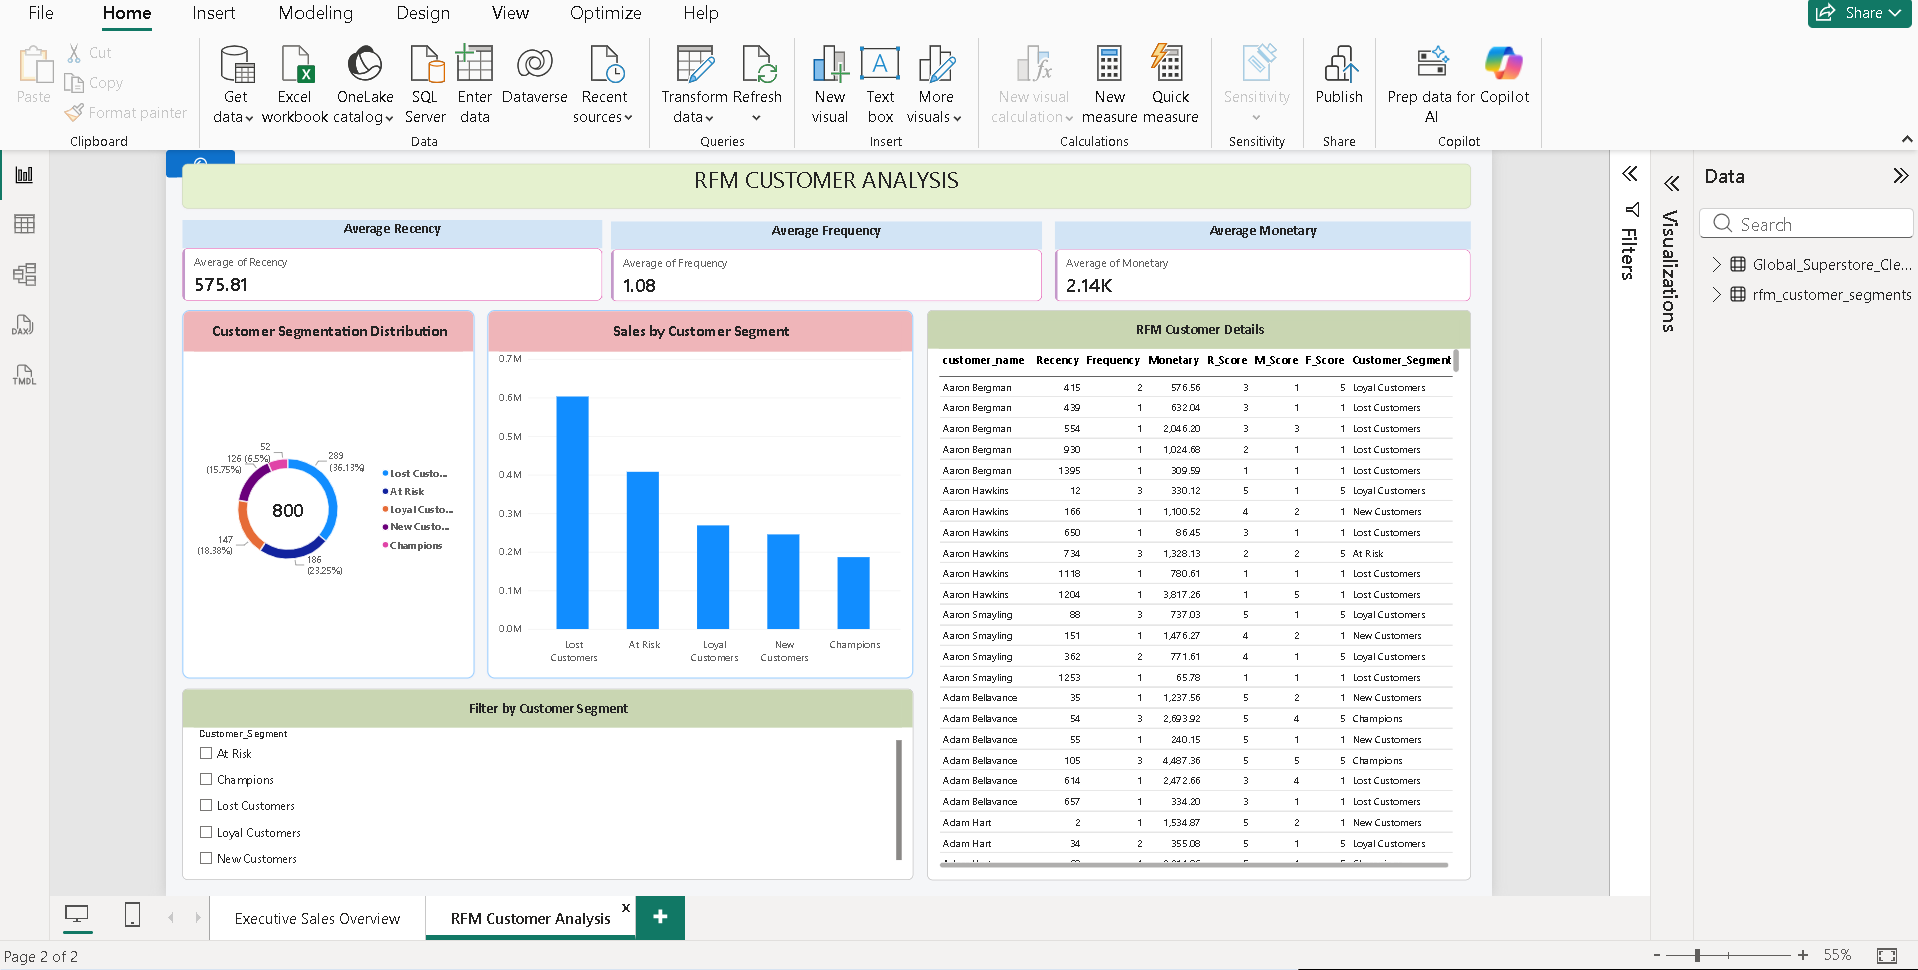

The dashboard page shown, as its layout file describes it:
{"tool":"powerbi","page":{"name":"RFM Customer Analysis","canvas":[1920,1080],"ordinal":1},"visuals":[{"type":"cardVisual","title":"Average Recency","fields":{"Data":["Avg(rfm_customer_segments.Recency)"]},"box":[23.5,101.3,608,117.6],"z":0},{"type":"cardVisual","title":"Average Frequency","fields":{"Data":["Avg(rfm_customer_segments.Frequency)"]},"box":[644.2,103.2,624.3,115.8],"z":1000},{"type":"cardVisual","title":"Average Monetary","fields":{"Data":["Avg(rfm_customer_segments.Monetary)"]},"box":[1286.7,103.2,602.6,115.8],"z":2000},{"type":"donutChart","title":"Customer Segmentation Distribution","fields":{"Category":["rfm_customer_segments.Customer_Segment"],"Y":["CountNonNull(rfm_customer_segments.customer_id)"]},"box":[23.5,231.6,423.5,533.8],"z":3000},{"type":"clusteredColumnChart","title":"Sales by Customer Segment","fields":{"Category":["rfm_customer_segments.Customer_Segment"],"Y":["Sum(rfm_customer_segments.Monetary)"]},"box":[465.1,231.6,617.1,533.8],"z":4000},{"type":"tableEx","title":"RFM Customer Details","fields":{"Values":["rfm_customer_segments.customer_name","rfm_customer_segments.Recency","rfm_customer_segments.Frequency","rfm_customer_segments.Monetary","rfm_customer_segments.R_Score","rfm_customer_segments.M_Score","rfm_customer_segments.F_Score","rfm_customer_segments.Customer_Segment"]},"box":[1102.1,231.6,787.2,825.2],"z":5000},{"type":"actionButton","box":[0,0,100,40],"z":6000},{"type":"slicer","title":"Filter by Customer Segment","fields":{"Values":["rfm_customer_segments.Customer_Segment"]},"box":[23.5,780,1058.7,276.9],"z":7000},{"type":"textbox","box":[23.5,19.9,1865.8,65.1],"z":8000}]}

Visuals, with their boxes on the page's 1920x1080 design canvas (x1, y1, x2, y2). These are canvas units, not pixel positions in the 1918x970 screenshot, which may show the page scaled, cropped or inside an application window:
"Average Recency" cardVisual: locate(24, 101, 632, 219)
"Average Frequency" cardVisual: locate(644, 103, 1268, 219)
"Average Monetary" cardVisual: locate(1287, 103, 1889, 219)
"Customer Segmentation Distribution" donutChart: locate(24, 232, 447, 765)
"Sales by Customer Segment" clusteredColumnChart: locate(465, 232, 1082, 765)
"RFM Customer Details" tableEx: locate(1102, 232, 1889, 1057)
actionButton: locate(0, 0, 100, 40)
"Filter by Customer Segment" slicer: locate(24, 780, 1082, 1057)
textbox: locate(24, 20, 1889, 85)
